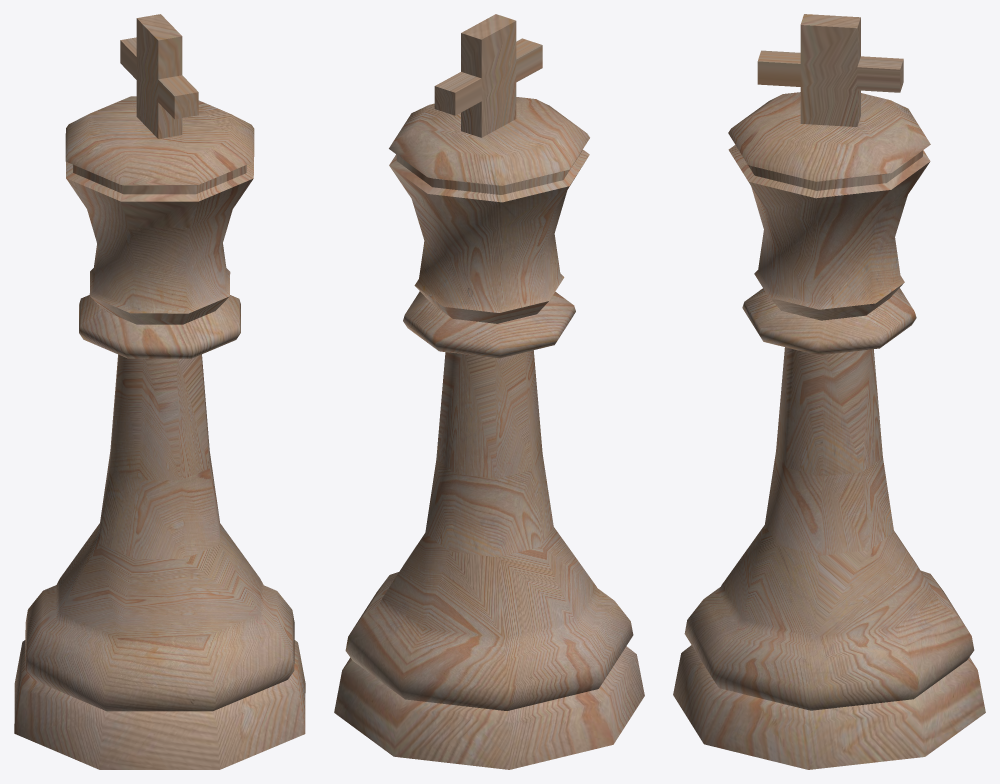
File: King_white.glb
3 renders of one model, left to right at view 1: azimuth 30°, elevation 25°; view 2: azimuth 150°, elevation 25°; view 3: azimuth 270°, elevation 25°, orthographic.
Visible parts, largest first — view 1: Object_24; view 2: Object_24; view 3: Object_24.
Part boxes in pixels (x1=…): Object_24: x1=14, y1=14, x2=305, y2=769; Object_24: x1=334, y1=14, x2=644, y2=769; Object_24: x1=673, y1=14, x2=985, y2=769.
Size of the model in its own units: 0.0294 by 0.0709 by 0.0294.
1 material, 1 textured.
